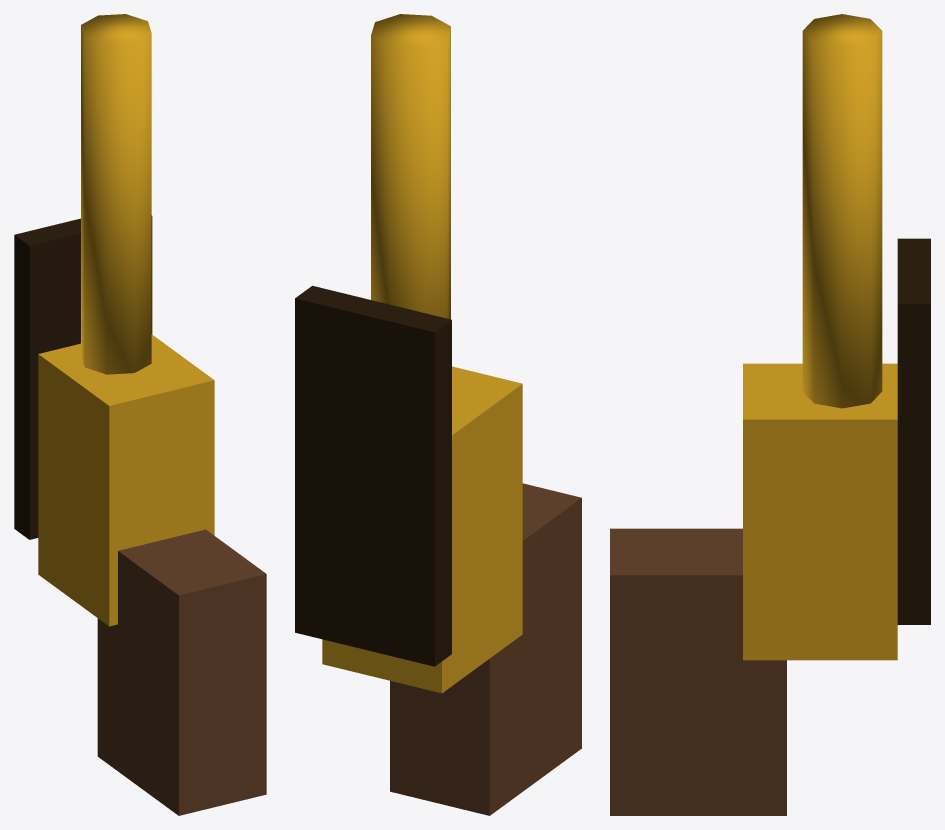
The model's file is bee_gun.glb.
3 views of the same model, side by side, from view 1: azimuth 30°, elevation 25°; view 2: azimuth 150°, elevation 25°; view 3: azimuth 270°, elevation 25° (orthographic). The views are drawn at different scales.
Parts seen in each view (by area): view 1: bee_gun_v0; view 2: bee_gun_v0; view 3: bee_gun_v0.
Part boxes in pixels (<box>): bee_gun_v0: <box>14,14,266,815</box>; bee_gun_v0: <box>295,14,581,815</box>; bee_gun_v0: <box>610,14,930,815</box>.
Size of the model in its own units: 0.07 by 0.38 by 0.145.
